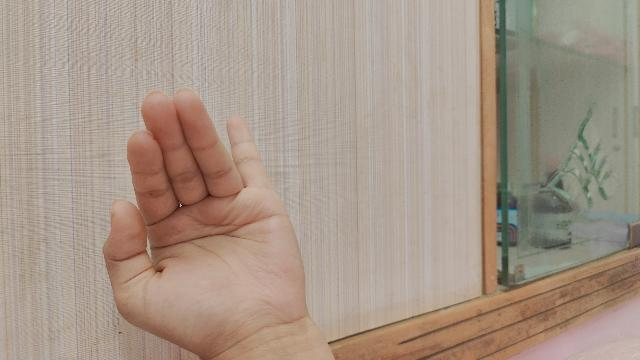Hamsapaksha: (101, 89, 337, 360)
